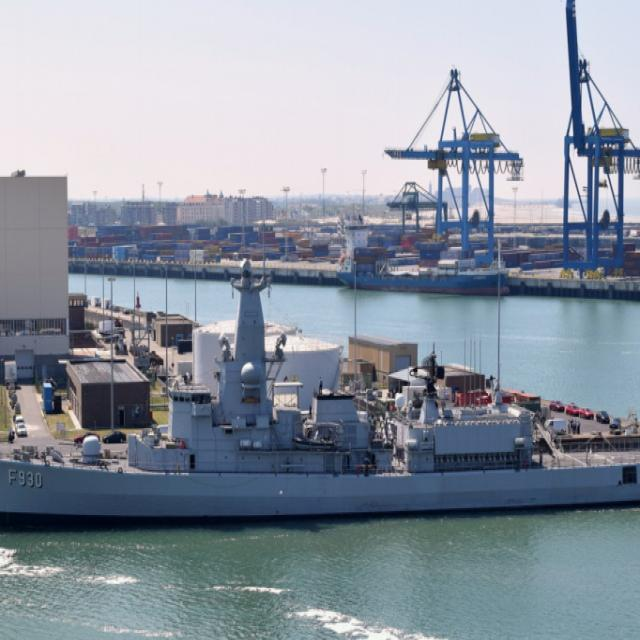Fragata: (1, 240, 640, 536)
